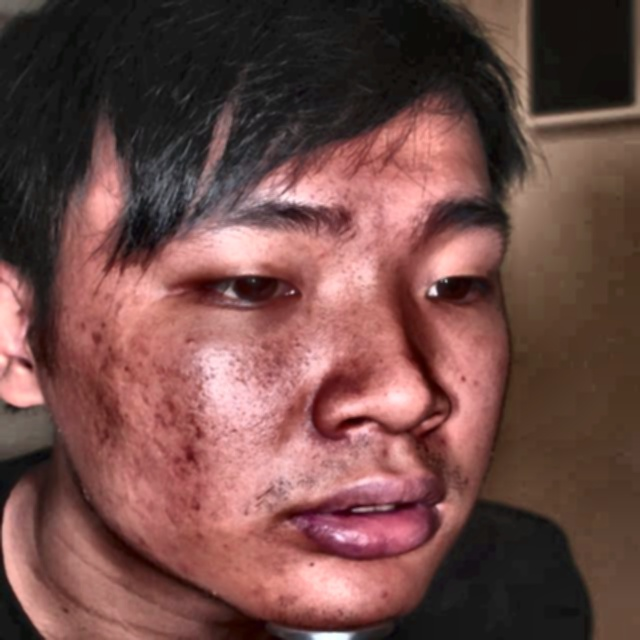comedone: (85, 315, 110, 357), (173, 447, 194, 472), (178, 498, 211, 513)
